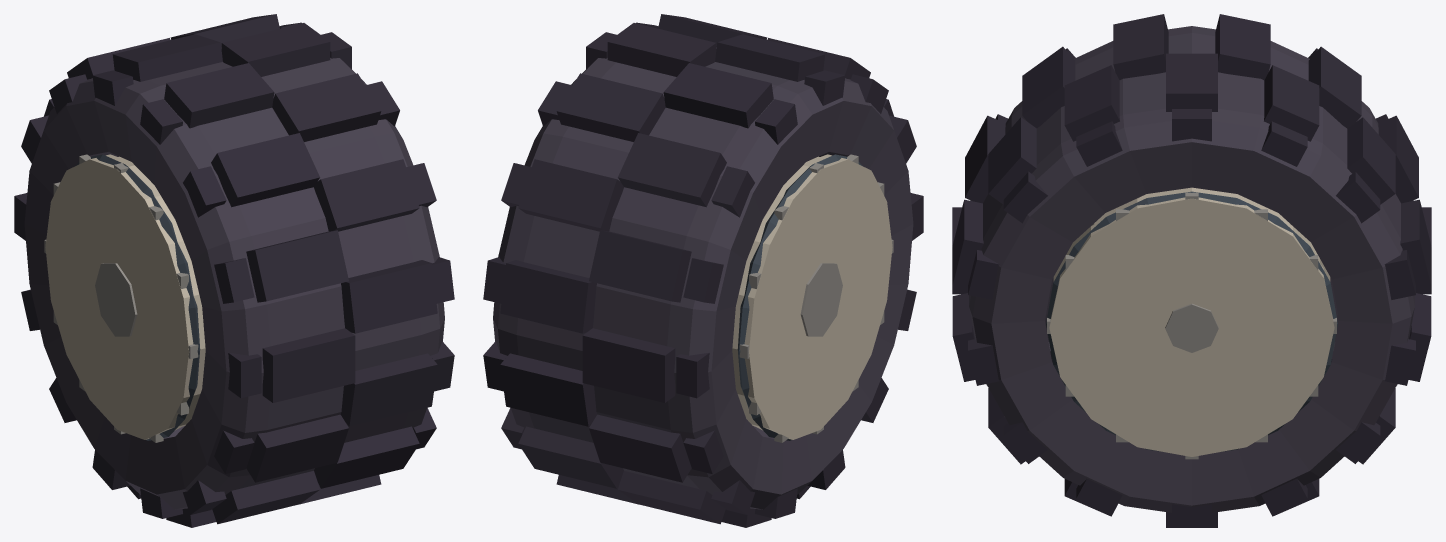
The model's file is kestrel_wheels.glb.
3 views of the same model, side by side, from view 1: azimuth 30°, elevation 25°; view 2: azimuth 150°, elevation 25°; view 3: azimuth 270°, elevation 25° (orthographic).
Visible parts, largest first — view 1: kestrel_wheel, kestrel_rim; view 2: kestrel_wheel, kestrel_rim; view 3: kestrel_wheel, kestrel_rim.
Part boxes in pixels (left/top/right/bottom): kestrel_wheel: left=14, top=14, right=454, bottom=527; kestrel_rim: left=44, top=154, right=205, bottom=442; kestrel_wheel: left=483, top=14, right=923, bottom=527; kestrel_rim: left=732, top=154, right=893, bottom=442; kestrel_wheel: left=952, top=14, right=1431, bottom=527; kestrel_rim: left=1046, top=187, right=1337, bottom=459.
Bounding box in the file's own units: 0.6032 × 1.05 × 1.05.
